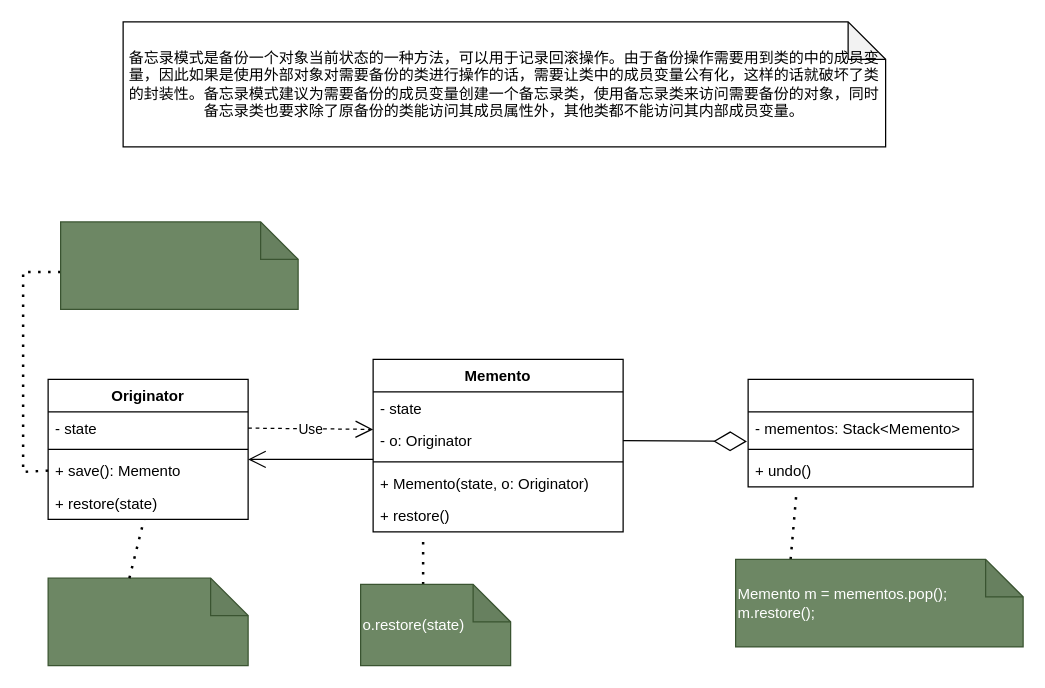
Some shapes in this 1045 by 688 pixel diagram are drawn without their labels. The box of each missing label's shape, as (x1, y1, x2, y2) in pixels:
History: (747, 378, 973, 487)
return new Memento(state, this);: (59, 221, 298, 309)
this.state = state;: (47, 577, 248, 666)
